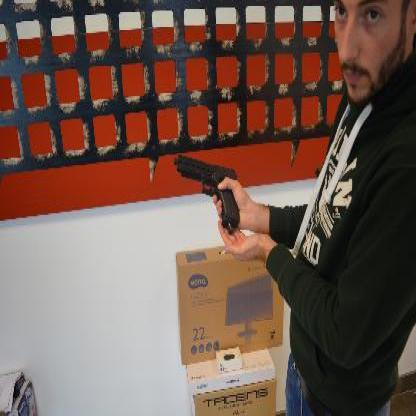pistol: (173, 153, 239, 233)
